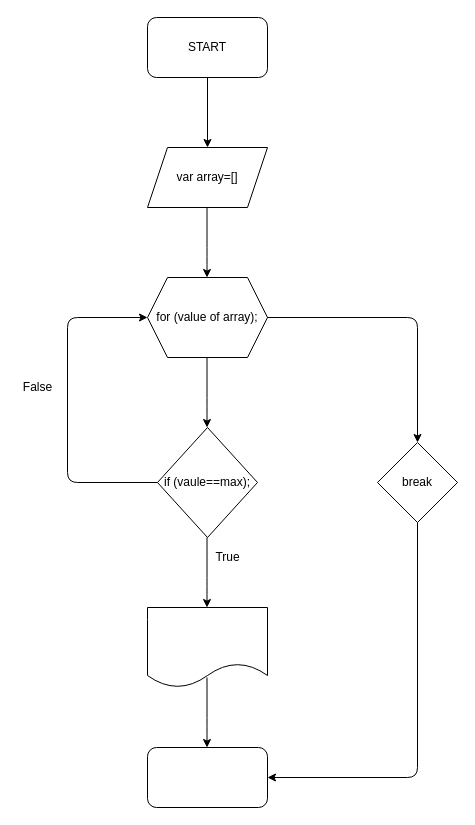
Some shapes in this 475 by 825 pixel diagram are drawn without their labels. Each missing label, with the centre of its shape:
"console.log(value)" goes at pixel 207 647.
"END" goes at pixel 207 777.
